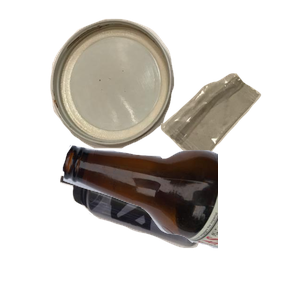glass: (60, 142, 300, 300)
metal: (47, 16, 214, 157)
plastic: (58, 162, 261, 300)
trash: (158, 71, 300, 227)
